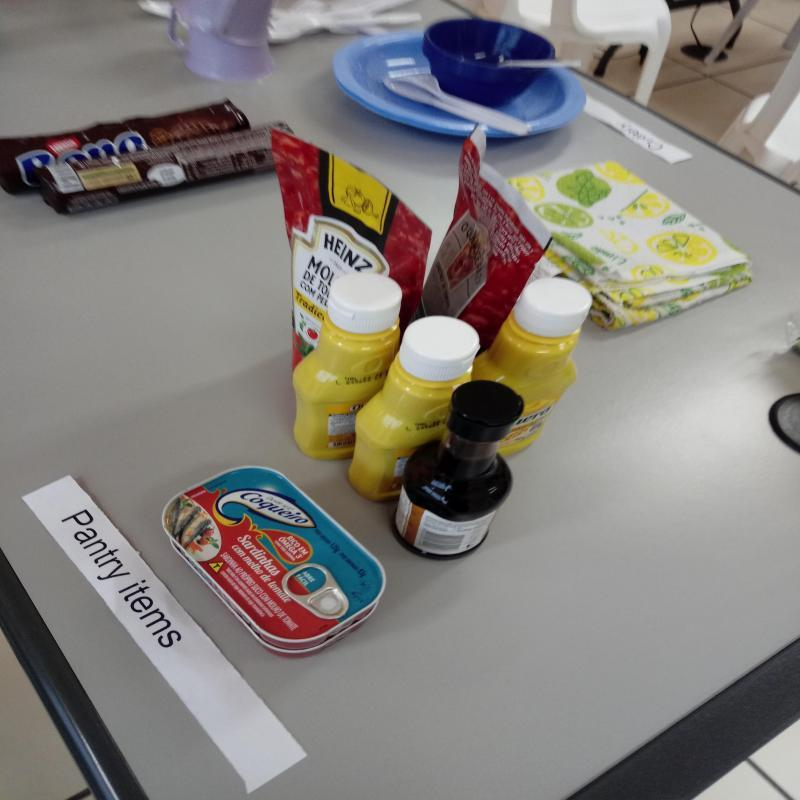Cloth: (487, 157, 760, 338)
Cookies: (45, 122, 300, 219), (0, 100, 252, 192)
EnglishSauce: (396, 381, 522, 552)
Mustard: (350, 312, 481, 501), (292, 272, 403, 461), (474, 278, 592, 455)
TomatoSauce: (266, 124, 421, 379), (419, 118, 556, 328)
TunaCan: (163, 460, 390, 657)
